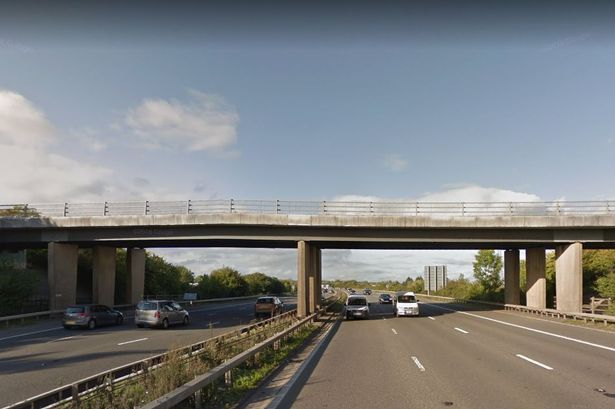bridge: (1, 205, 615, 315)
